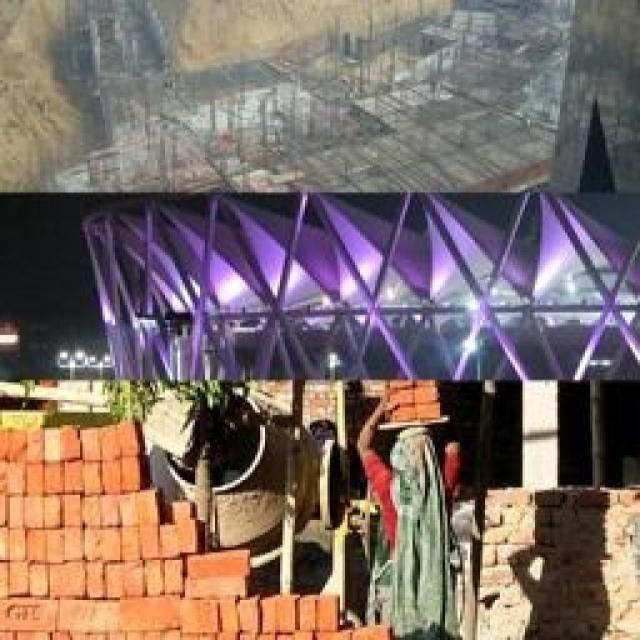Helmet: (358, 470, 470, 627), (382, 424, 442, 489)
